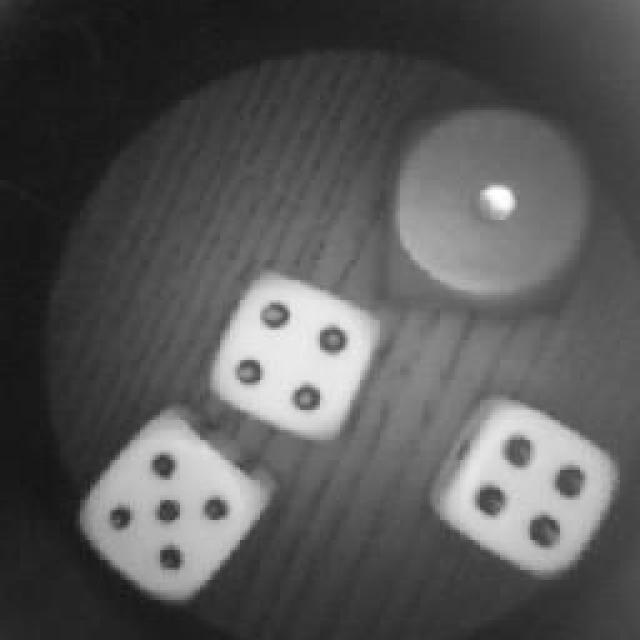dice_1: (382, 90, 608, 322)
dice_4: (440, 398, 620, 578), (215, 270, 377, 438)
dice_5: (70, 402, 268, 618)
